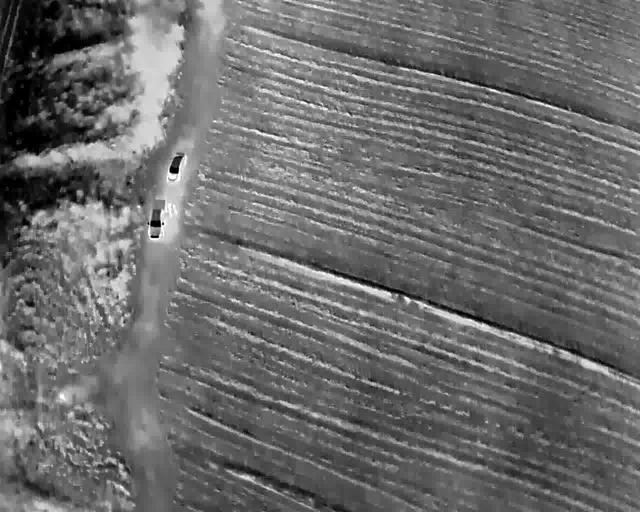car: (148, 197, 165, 240), (168, 151, 185, 184)
person: (58, 393, 67, 401)
